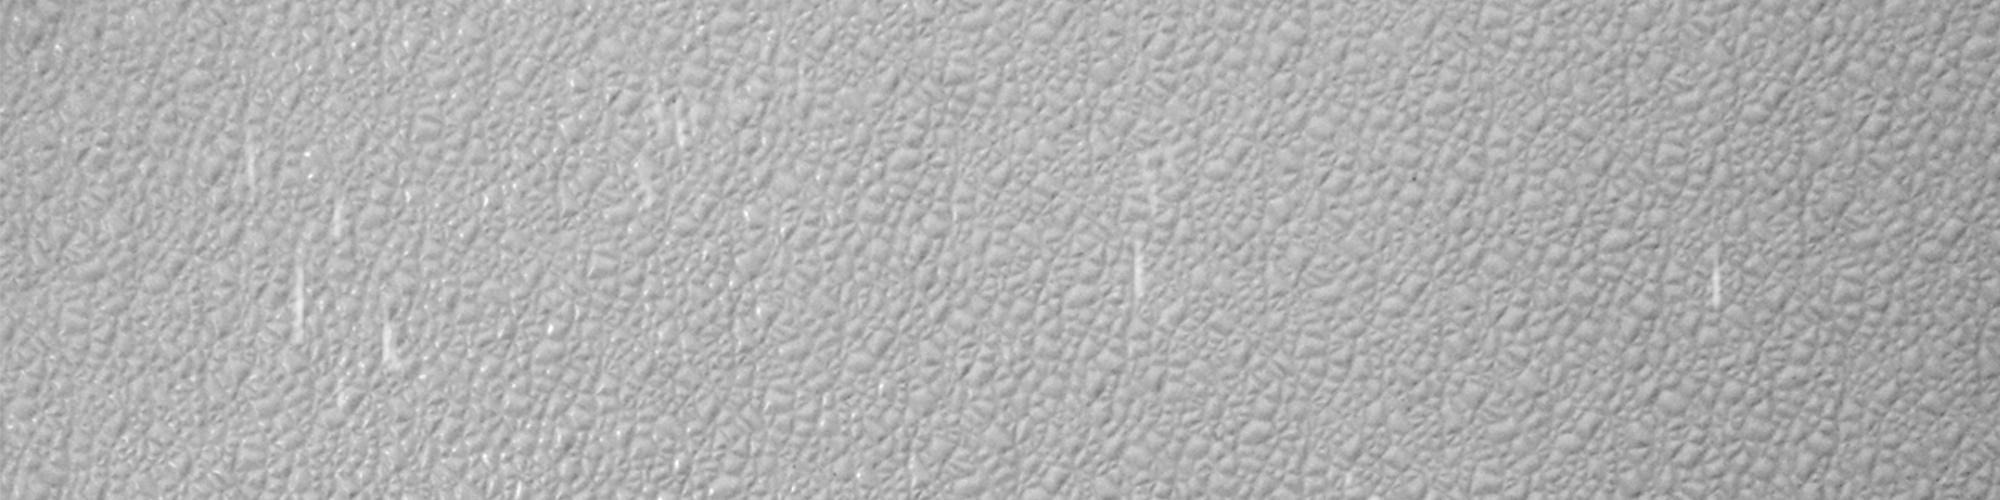Streaks: (369, 300, 421, 388), (658, 91, 696, 165), (288, 251, 312, 362), (1124, 233, 1156, 310), (236, 124, 265, 207), (327, 195, 349, 253), (1710, 253, 1730, 321)
